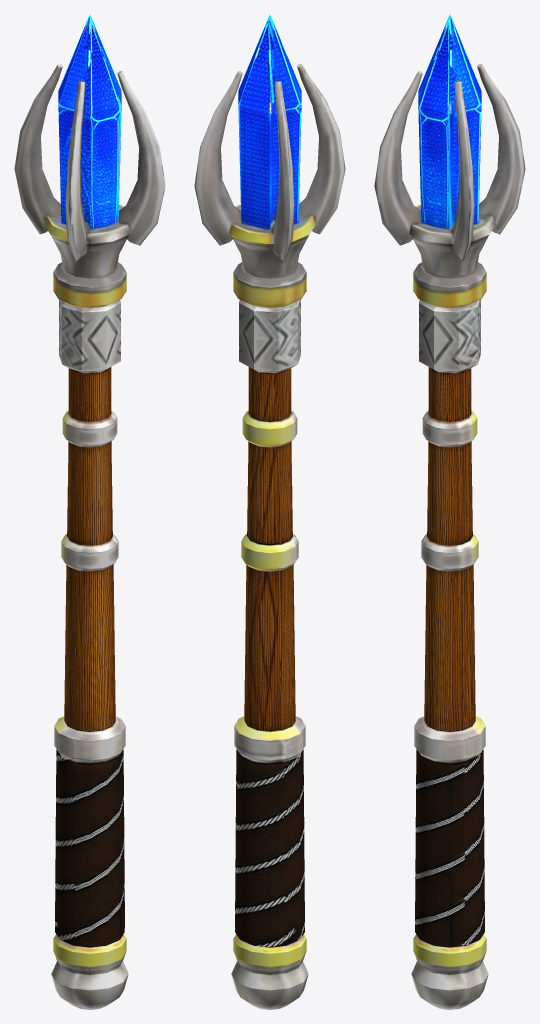
File: w_wand.glb
3 renders of one model, left to right at view 1: azimuth 30°, elevation 25°; view 2: azimuth 150°, elevation 25°; view 3: azimuth 330°, elevation 25°, orthographic.
Visible parts, largest first — view 1: w_wand; view 2: w_wand; view 3: w_wand.
Boxes of the visible parts, x1,y1,x2,y2 form: w_wand: (14,14,165,1009); w_wand: (194,14,345,1009); w_wand: (374,14,525,1009).
Bounding box in the file's own units: 3.09 × 30.6 × 3.09.
1 material, 1 textured.
